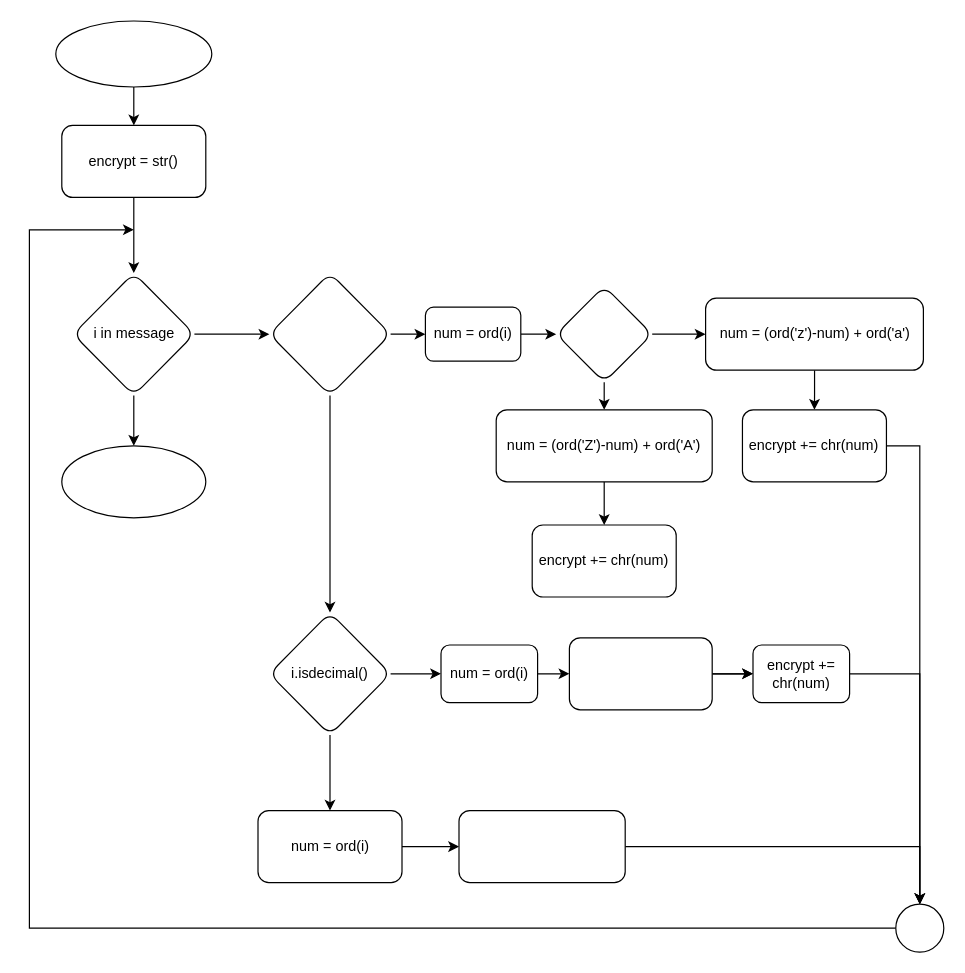
This 965x973 diagram has some shape labels left out. Here are the shapes that lost their labels. From the top down, the box of each, then its label:
(55, 20, 212, 87): Start
(268, 272, 391, 395): i.isalpha()
(555, 285, 652, 382): i.isupper
(61, 445, 206, 518): Stop
(568, 637, 712, 710): num = (ord('9')-num) + ord ('0')
(458, 809, 625, 883): encrypt += chr(num
